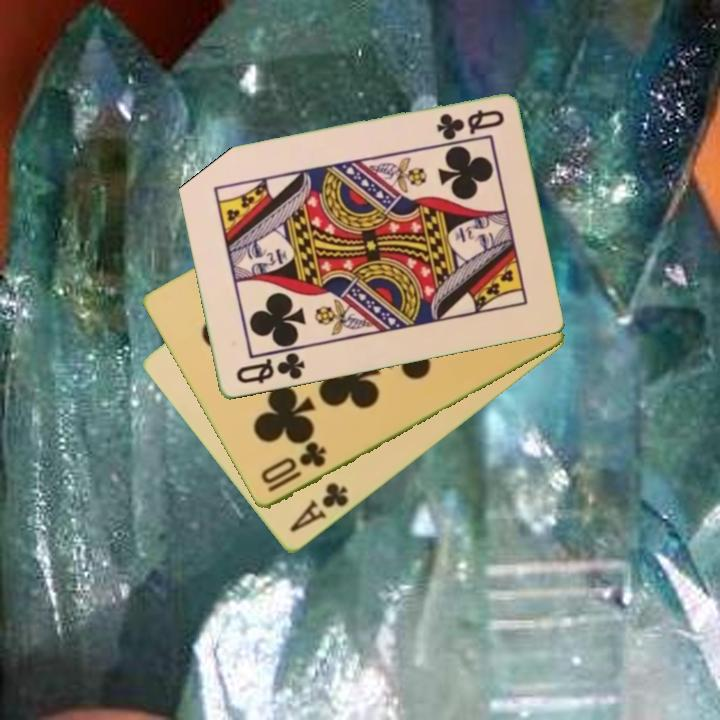10c: (257, 439, 329, 496)
Ac: (286, 479, 352, 536)
Qc: (232, 349, 308, 388), (432, 106, 507, 143)
